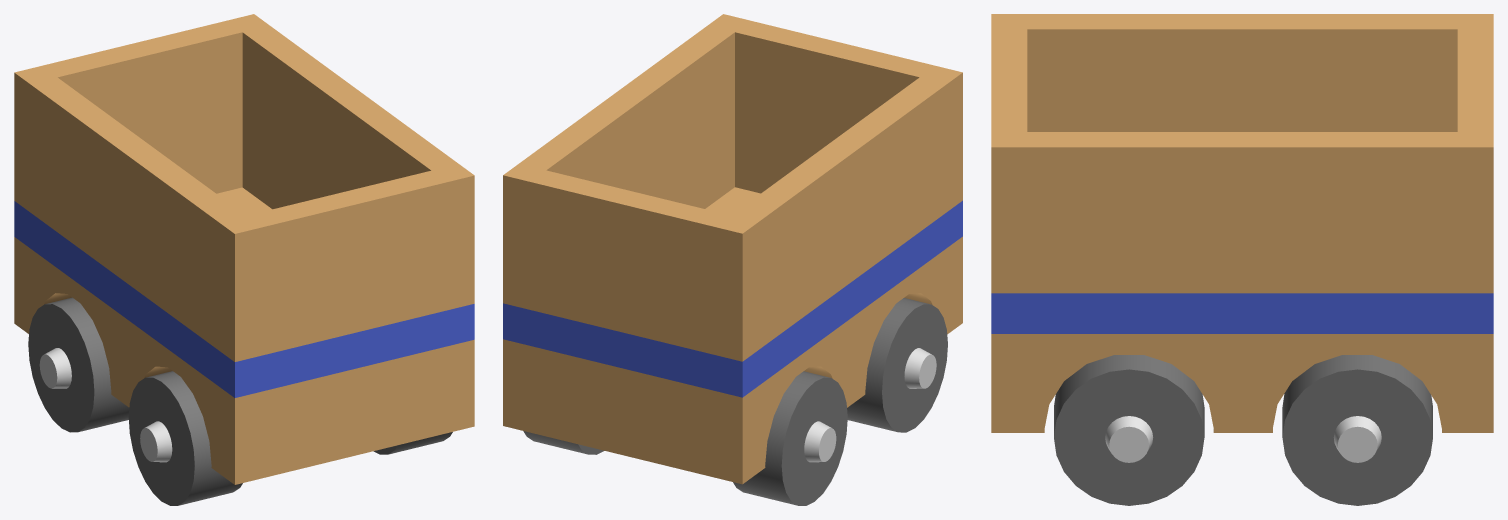
The model's file is train_Carriage_GEO.fbx.
3 views of the same model, side by side, from view 1: azimuth 30°, elevation 25°; view 2: azimuth 150°, elevation 25°; view 3: azimuth 270°, elevation 25° (orthographic). The views are drawn at different scales.
Parts seen in each view (by area): view 1: train_Carriage_GEO; view 2: train_Carriage_GEO; view 3: train_Carriage_GEO.
Part boxes in pixels (bbox=[...]): train_Carriage_GEO: bbox=[14, 14, 474, 505]; train_Carriage_GEO: bbox=[503, 14, 962, 505]; train_Carriage_GEO: bbox=[991, 14, 1493, 505].
Bounding box in the file's own units: 260 × 342 × 264.
1 material, 1 textured.
